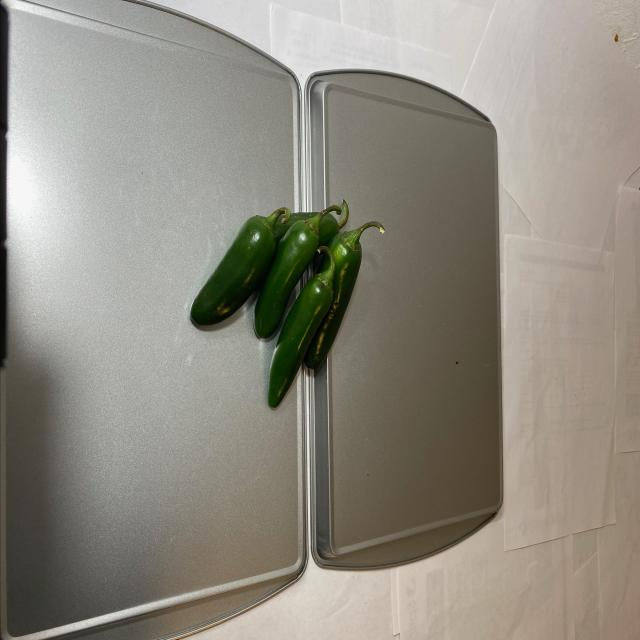chilli: (187, 194, 392, 413)
